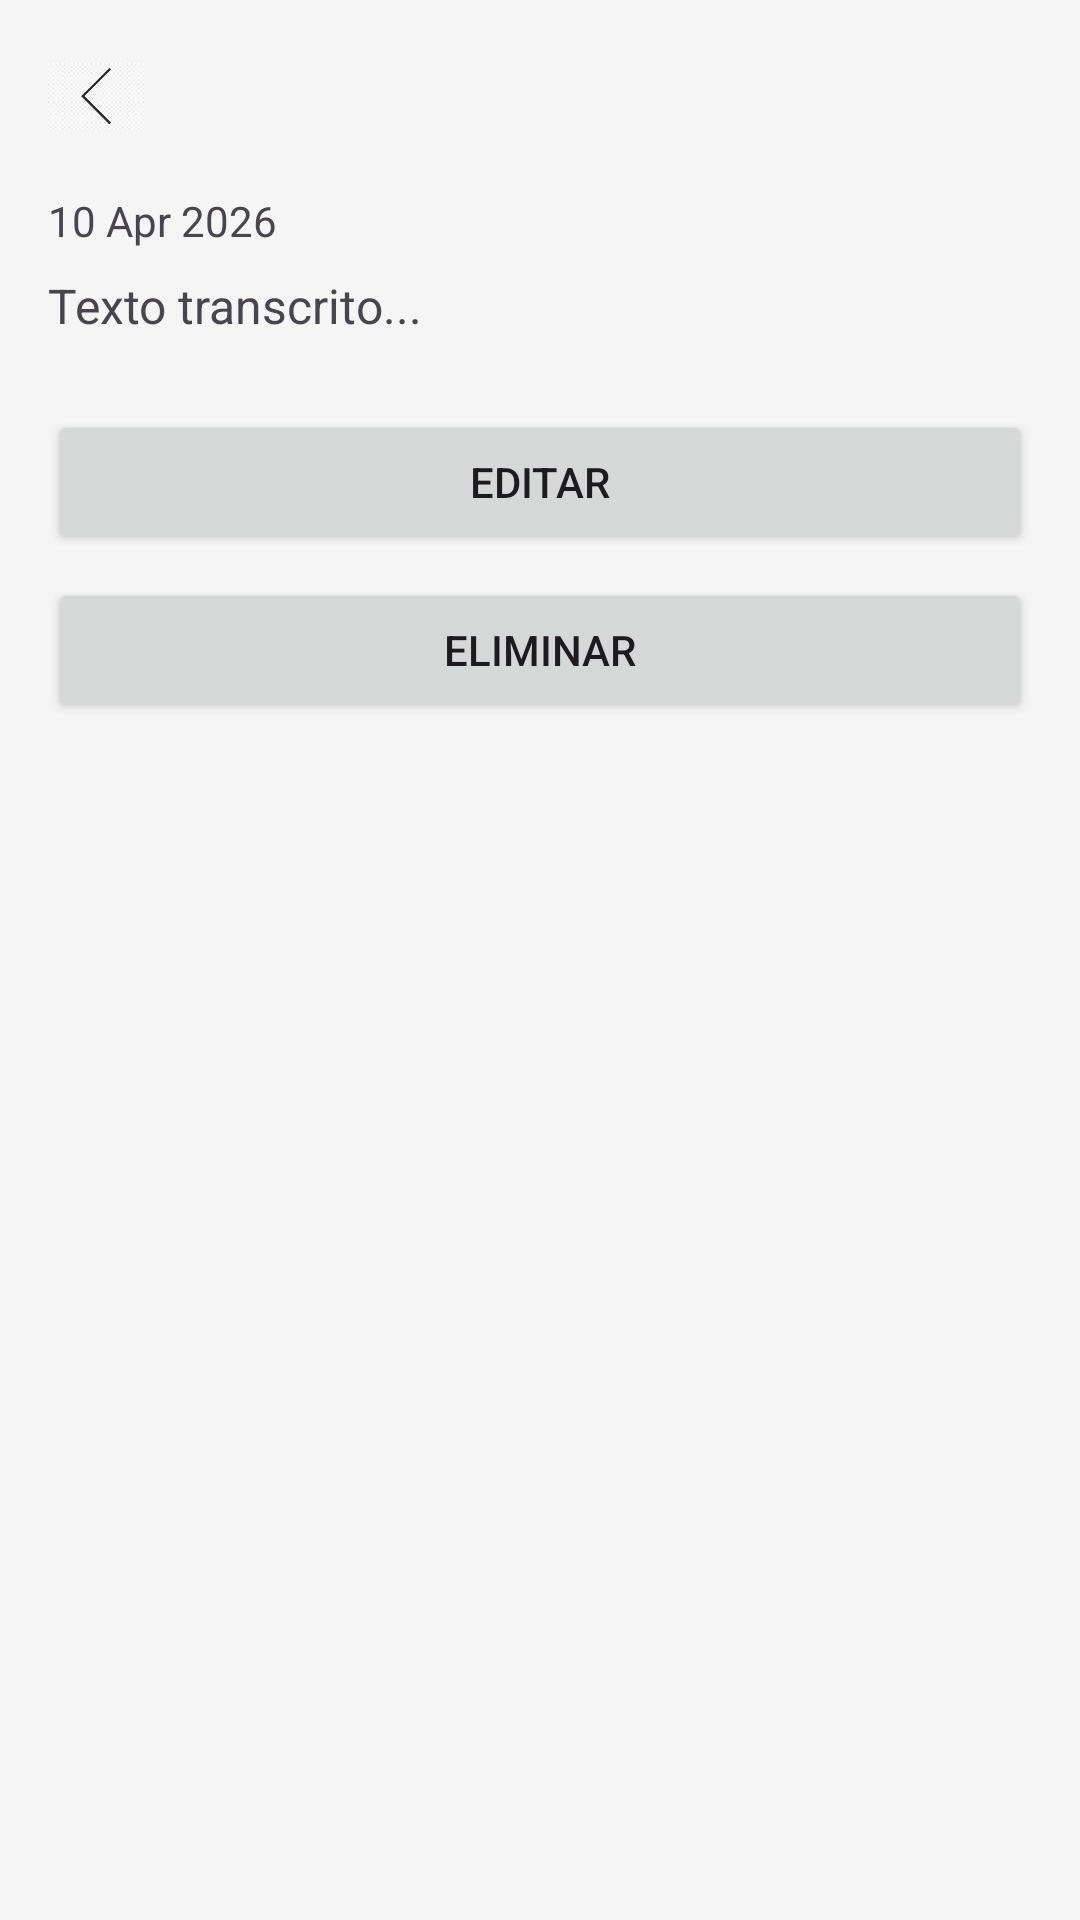

Icon click points for this 1080 × 1920 phone screenshot, format [x,y]:
Cancelar: [96,96]
